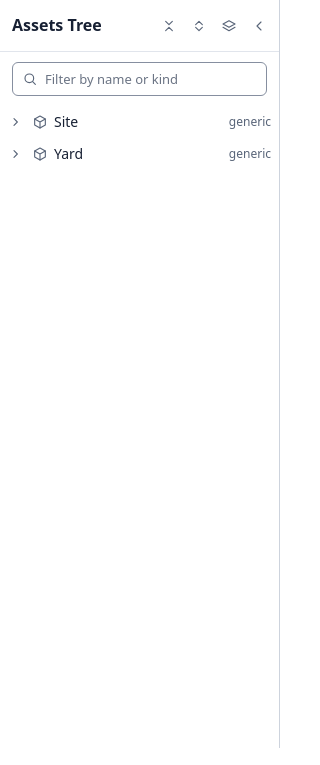
it: AssetTree fold state › Expand all shows everything again
The image size is (320, 765).
Click the button named "Collapse all" at (169, 26), box [155,12,183,40]
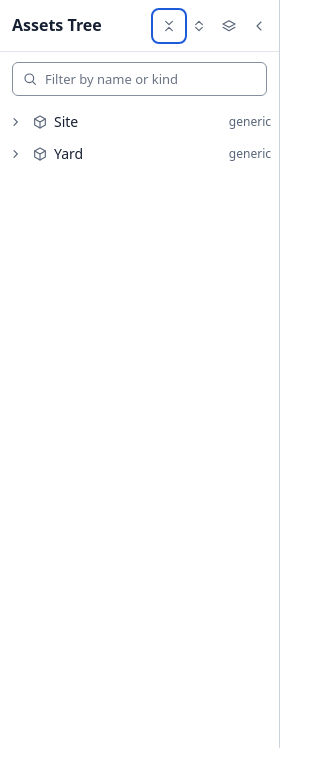
Click the button named "Expand all" at (199, 26), box [185,12,213,40]
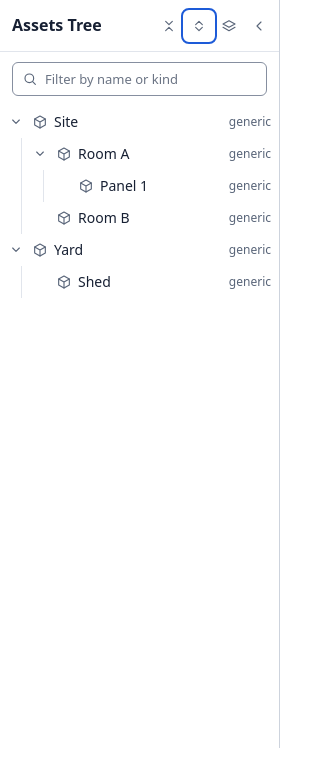
Expected: the link "Room A" is shown, [78,144,129,163]
Expected: the link "Room B" is shown, [78,208,130,227]
Expected: the link "Panel 1" is shown, [100,176,148,195]
